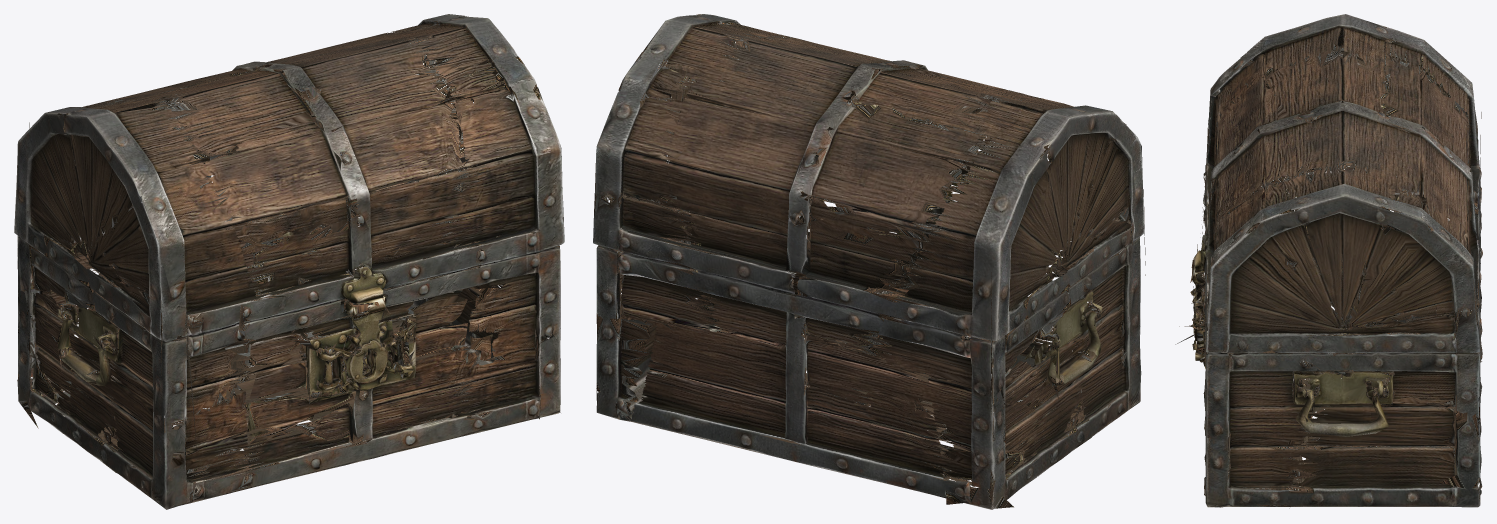
Rendered from Climboria_Chest_Common.glb.
3 views of the same model, side by side, from view 1: azimuth 30°, elevation 25°; view 2: azimuth 150°, elevation 25°; view 3: azimuth 270°, elevation 25° (orthographic). The views are drawn at different scales.
Visible parts, largest first — view 1: Climboria_Chest_common; view 2: Climboria_Chest_common; view 3: Climboria_Chest_common.
Part boxes in pixels (left/top/right/bottom): Climboria_Chest_common: left=14, top=14, right=564, bottom=509; Climboria_Chest_common: left=593, top=14, right=1145, bottom=509; Climboria_Chest_common: left=1175, top=14, right=1482, bottom=508.
Size of the model in its own units: 1.95 by 1.49 by 1.28.
1 material, 1 textured.
